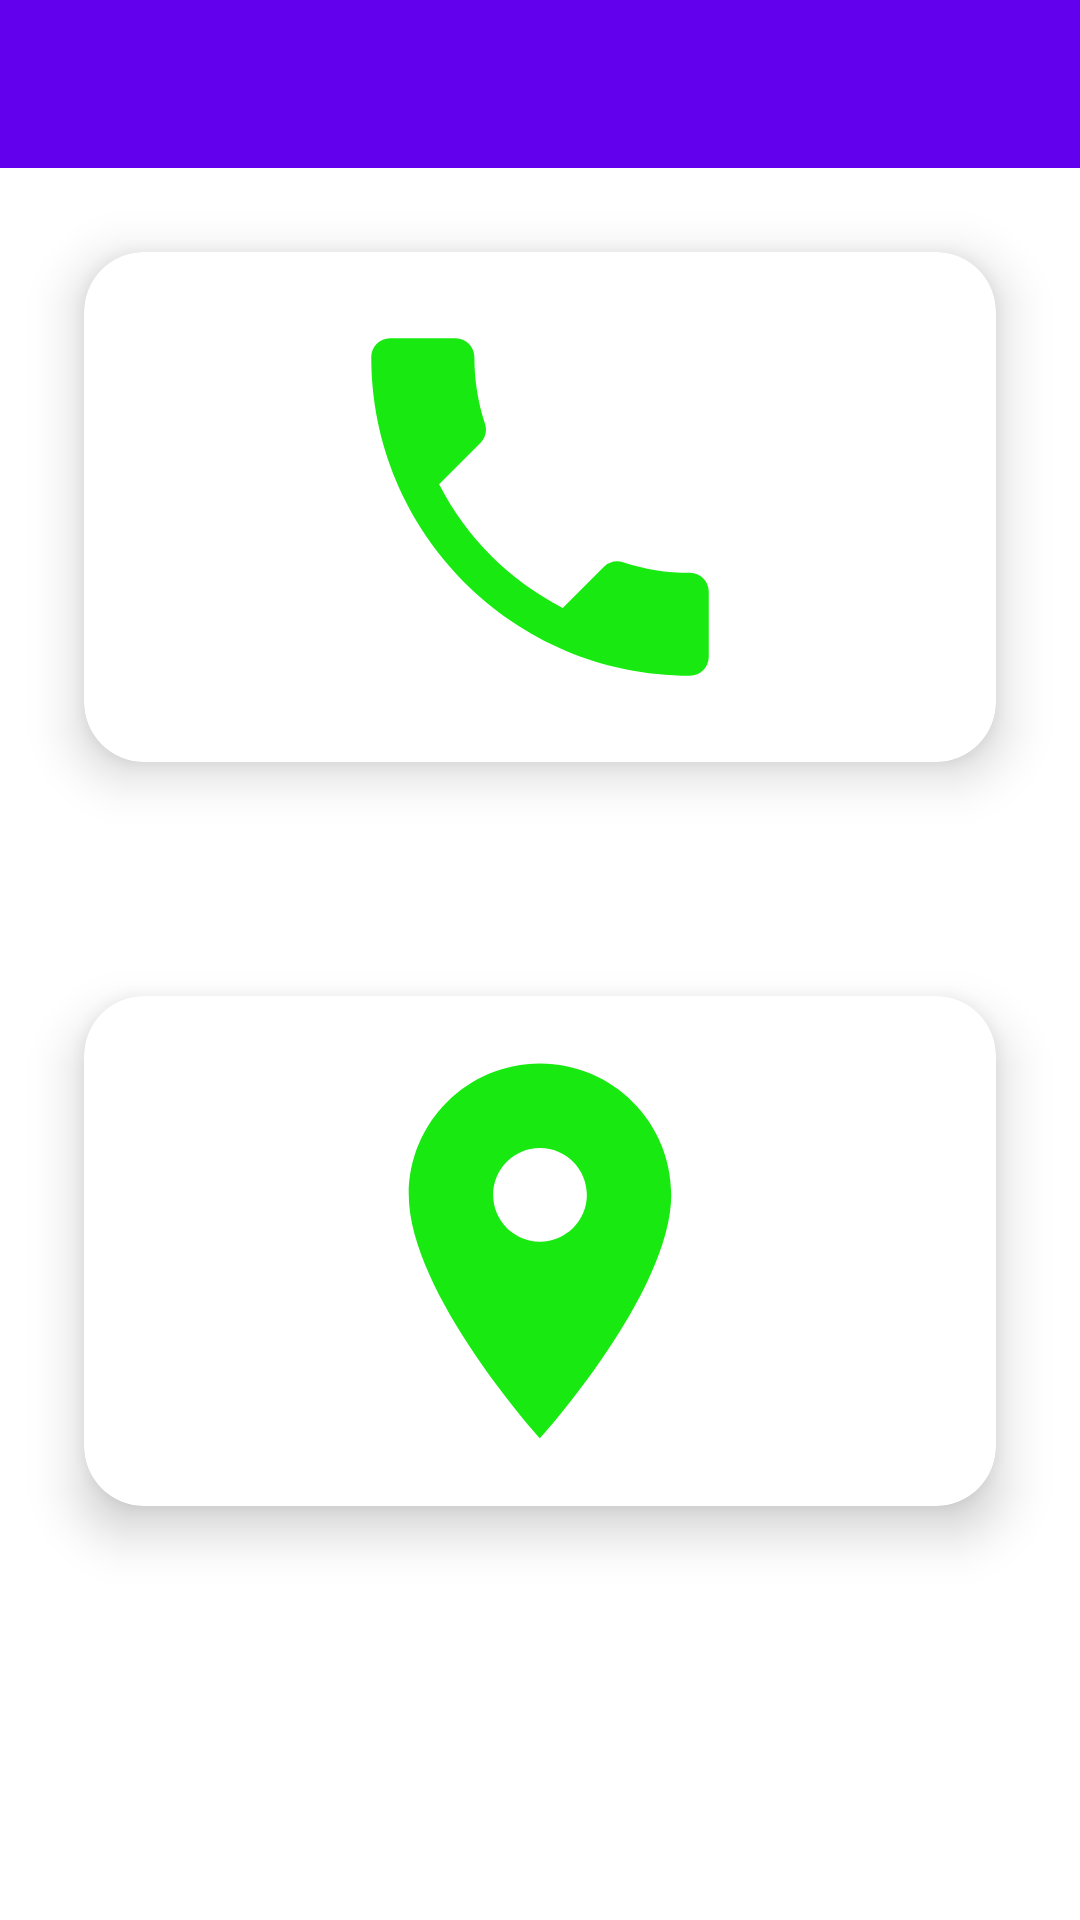

Where icons sit on this 1080px×1920px app screen, as (x1, y1, x2, y2):
phone: (371, 338, 709, 676)
